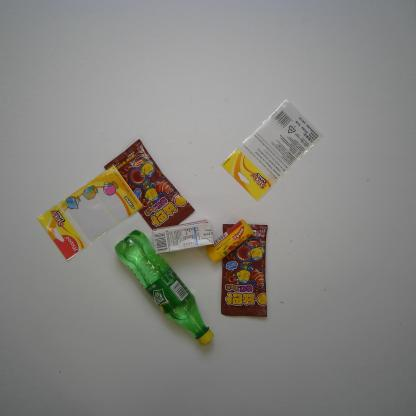Candy: (104, 136, 196, 232), (219, 221, 270, 318), (204, 218, 254, 266)
Drink: (114, 226, 215, 350)
Milk: (150, 218, 217, 255)
Stationery: (220, 96, 326, 202), (35, 162, 146, 262)
